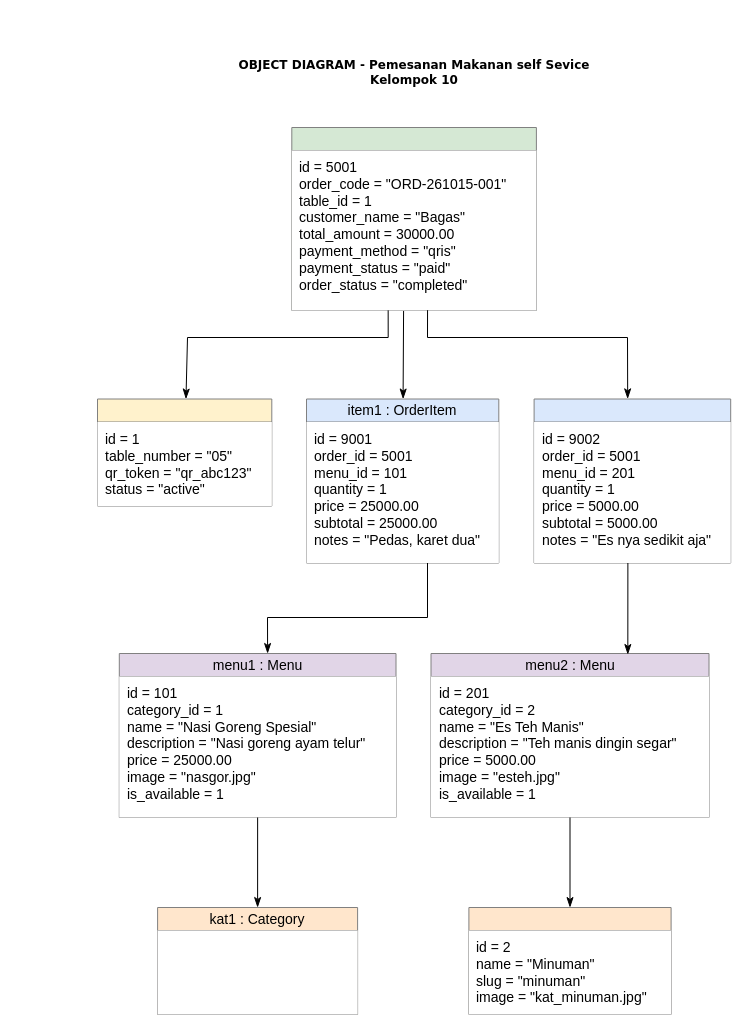
Image size: 748x1032. Some labels were removed from this diagram. Here are the shapes that lost their labels. From the top down, the box of each, then its label:
(291, 126, 536, 310): order1 : Order
(96, 398, 272, 506): meja1 : Table
(533, 398, 731, 563): item2 : OrderItem
(157, 930, 357, 1014): id = 1 name = "Makanan" slug = "makanan" image = "kat_makanan.jpg"
(468, 906, 671, 1014): kat2 : Category
